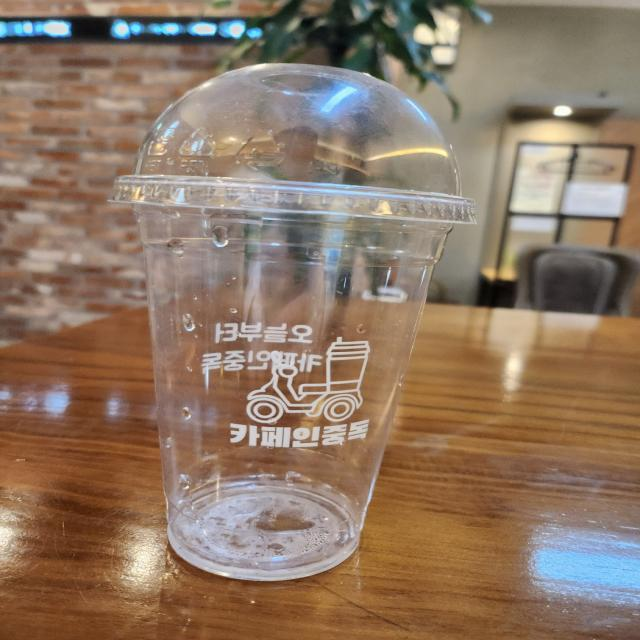plastic_cup_lid: (123, 56, 485, 234)
